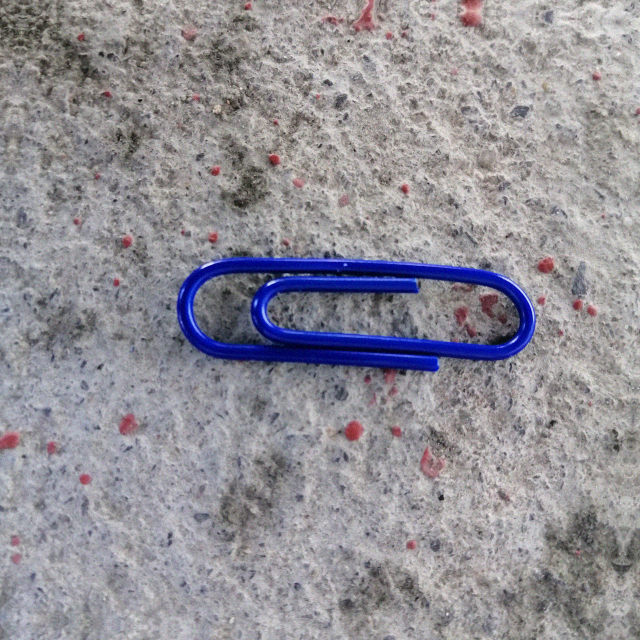pin: (180, 248, 533, 376)
